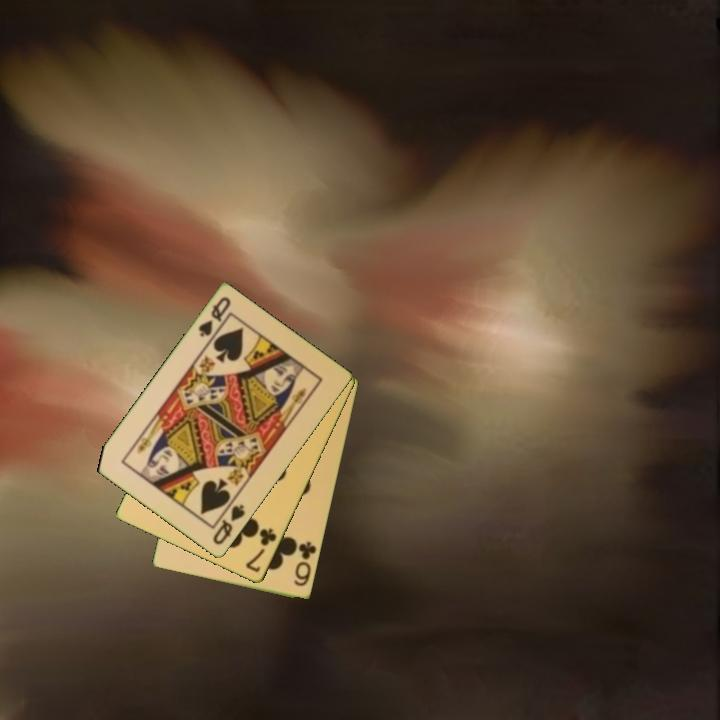6c: (290, 538, 320, 590)
7c: (242, 525, 280, 576)
Qs: (209, 501, 248, 548), (195, 294, 234, 340)
